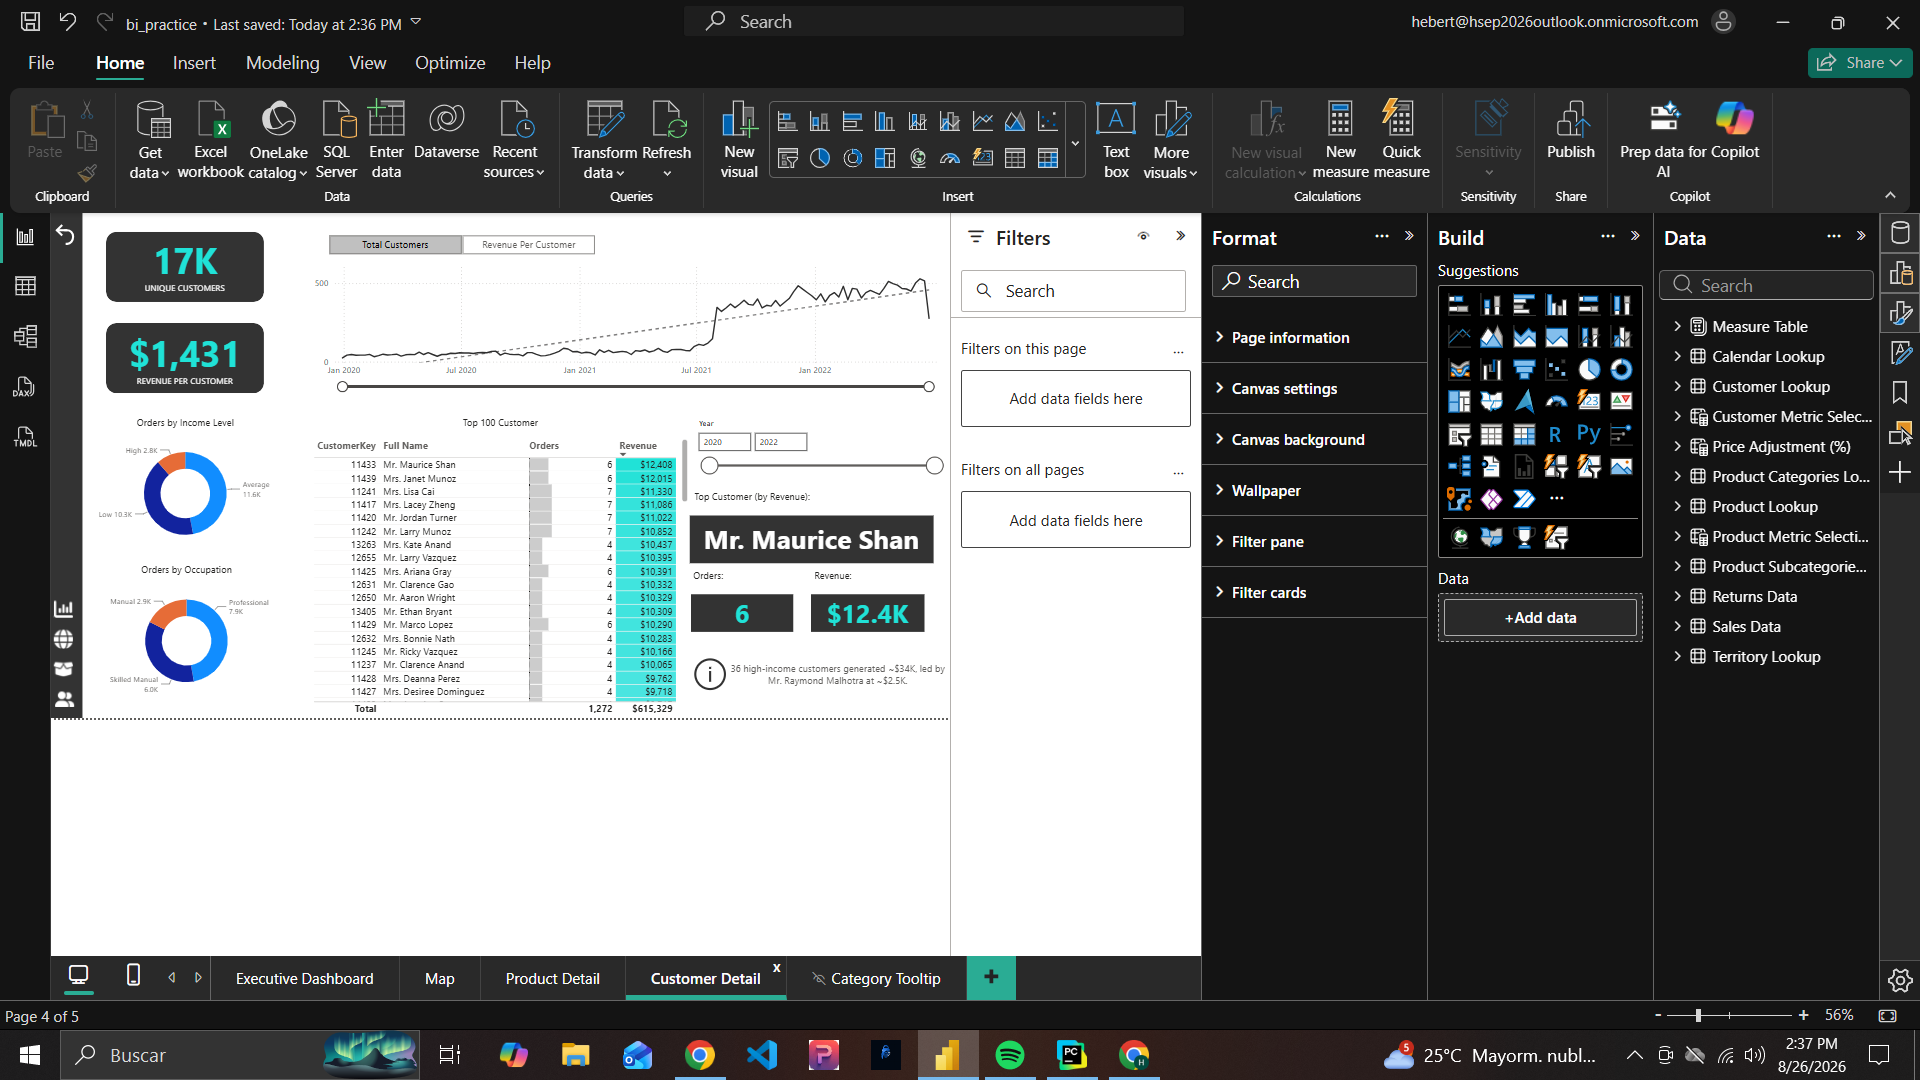

The dashboard page shown, as its layout file describes it:
{"tool":"powerbi","page":{"name":"Customer Detail","canvas":[1280,720],"ordinal":3},"visuals":[{"type":"shape","title":"Left Nav Background","box":[0,0,45,720],"z":0},{"type":"shape","box":[78.8,26.2,225,100],"z":1000},{"type":"actionButton","box":[0,588.9,44.5,35.6],"z":1000,"group":"g1"},{"type":"shape","box":[78.8,157.5,225,100],"z":2000},{"type":"actionButton","box":[0,546,44.5,35.6],"z":2000,"group":"g1"},{"type":"card","fields":{"Values":["Measure Table.Total Customers"]},"box":[78.8,23.8,225,102.5],"z":3000},{"type":"actionButton","box":[0,631.9,44.5,35.6],"z":3000,"group":"g1"},{"type":"card","fields":{"Values":["Measure Table.Average Revenue Per Customer"]},"box":[78.8,155,225,102.5],"z":4000},{"type":"actionButton","box":[1.4,674.8,41.7,35.6],"z":4000,"group":"g1"},{"type":"lineChart","title":"Weekly Customers","fields":{"Category":["Calendar Lookup.Date Hierarchy.Start of Year","Calendar Lookup.Date Hierarchy.Start of Month","Calendar Lookup.Date Hierarchy.Start of Week","Calendar Lookup.Date Hierarchy.Date"],"Y":["Measure Table.Total Customers"]},"box":[369.3,63.8,909.2,193.9],"z":5000},{"type":"donutChart","title":"Orders by Income Level","fields":{"Category":["Customer Lookup.Income Level"],"Y":["Measure Table.Total Orders"]},"box":[49.8,288.7,283,193.4],"z":6000},{"type":"donutChart","title":"Orders by Occupation","fields":{"Category":["Customer Lookup.Occupation"],"Y":["Measure Table.Total Orders"]},"box":[51.2,499.2,283,193],"z":7000},{"type":"tableEx","title":"Top 100 Customer","fields":{"Values":["Customer Lookup.CustomerKey","Customer Lookup.Full Name","Measure Table.Total Orders","Measure Table.Total Revenue"]},"box":[368.4,288.7,543.3,430.9],"z":8000},{"type":"card","fields":{"Values":["Customer Lookup.Full Name (Customer Detail)"]},"box":[909.5,430.7,347.1,67.6],"z":9000},{"type":"card","fields":{"Values":["Measure Table.Total Revenue (Customer Detail)"]},"box":[1082.1,542.8,162,53.4],"z":10000},{"type":"card","fields":{"Values":["Measure Table.Total Orders (Customer Detail)"]},"box":[911.3,542.8,145.9,53.4],"z":11000},{"type":"textbox","box":[911.3,389.8,197.6,40.9],"z":12000},{"type":"textbox","box":[909.5,501.7,147.7,40.9],"z":13000},{"type":"textbox","box":[1082.1,501.7,162,40.9],"z":14000},{"type":"slicer","fields":{"Values":["Calendar Lookup.Year"]},"box":[909.5,288.3,370.2,96.1],"z":15000},{"type":"actionButton","box":[908.8,607.3,369.8,99.6],"z":16000},{"type":"actionButton","box":[0,10,45.5,39.8],"z":17000},{"type":"group","id":"g1","title":"Navigation Buttons","box":[0,546,44.5,164.4],"z":18000},{"type":"slicer","fields":{"Values":["Customer Metric Selection.Customer Metric Selection"]},"box":[369.3,25.8,428.2,38],"z":19000}]}

Visuals, with their boxes on the page's 1280x720 design canvas (x1, y1, x2, y2). These are canvas units, not pixel positions in the 1920x1080 screenshot, which may show the page scaled, cropped or inside an application window:
"Left Nav Background" shape: (0, 0, 45, 720)
shape: (79, 26, 304, 126)
actionButton: (0, 589, 44, 624)
shape: (79, 158, 304, 258)
actionButton: (0, 546, 44, 582)
card - Measure Table.Total Customers: (79, 24, 304, 126)
actionButton: (0, 632, 44, 668)
card - Measure Table.Average Revenue Per Customer: (79, 155, 304, 258)
actionButton: (1, 675, 43, 710)
"Weekly Customers" lineChart: (369, 64, 1278, 258)
"Orders by Income Level" donutChart: (50, 289, 333, 482)
"Orders by Occupation" donutChart: (51, 499, 334, 692)
"Top 100 Customer" tableEx: (368, 289, 912, 720)
card - Customer Lookup.Full Name (Customer Detail): (910, 431, 1257, 498)
card - Measure Table.Total Revenue (Customer Detail): (1082, 543, 1244, 596)
card - Measure Table.Total Orders (Customer Detail): (911, 543, 1057, 596)
textbox: (911, 390, 1109, 431)
textbox: (910, 502, 1057, 543)
textbox: (1082, 502, 1244, 543)
slicer - Calendar Lookup.Year: (910, 288, 1280, 384)
actionButton: (909, 607, 1279, 707)
actionButton: (0, 10, 46, 50)
"Navigation Buttons" group: (0, 546, 44, 710)
slicer - Customer Metric Selection.Customer Metric Selection: (369, 26, 798, 64)
